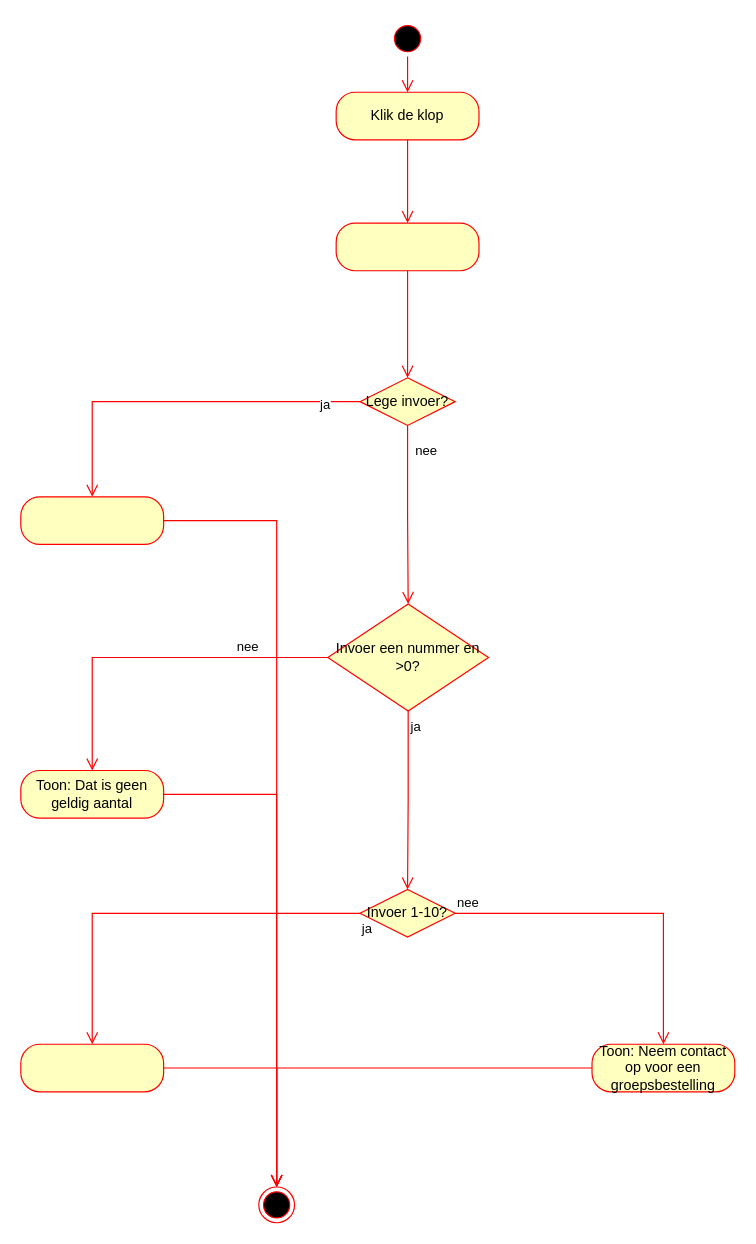
Some shapes in this 756 by 1244 pixel diagram are drawn without their labels. Each missing label, with the box of its shape:
Invoer lezen: (335, 222, 479, 271)
Toon: Je bestelling van X koppen staat klaar: (20, 1043, 164, 1092)
Toon: Vul een aantal in: (20, 496, 164, 544)
